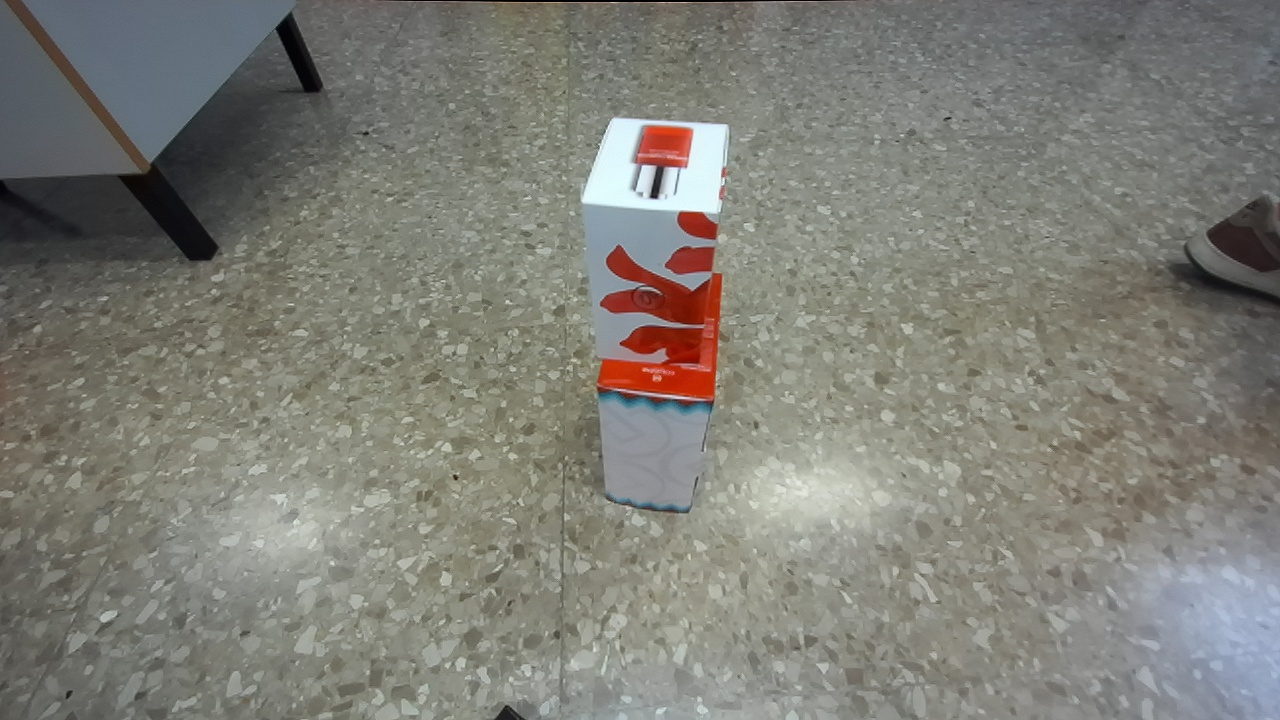caja_busbar: (596, 273, 722, 513)
caja_potencia: (580, 118, 729, 365)
